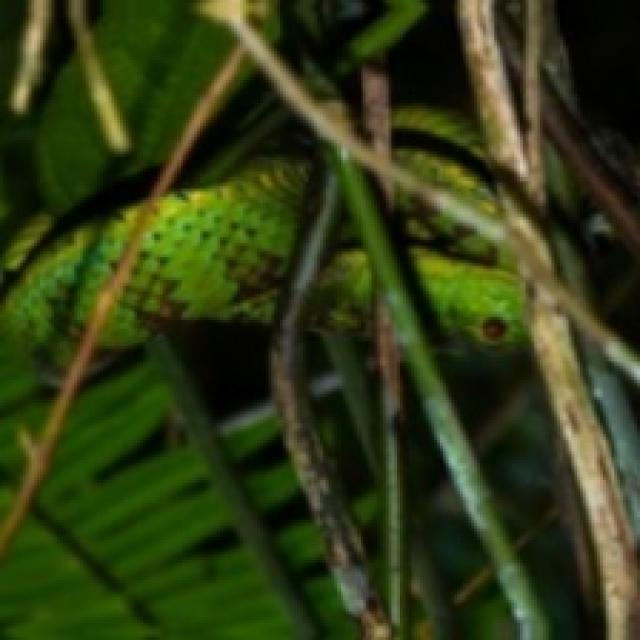philippine pitviper: (101, 158, 304, 350), (0, 205, 136, 366), (396, 191, 526, 343), (395, 106, 499, 221), (310, 219, 371, 334)
